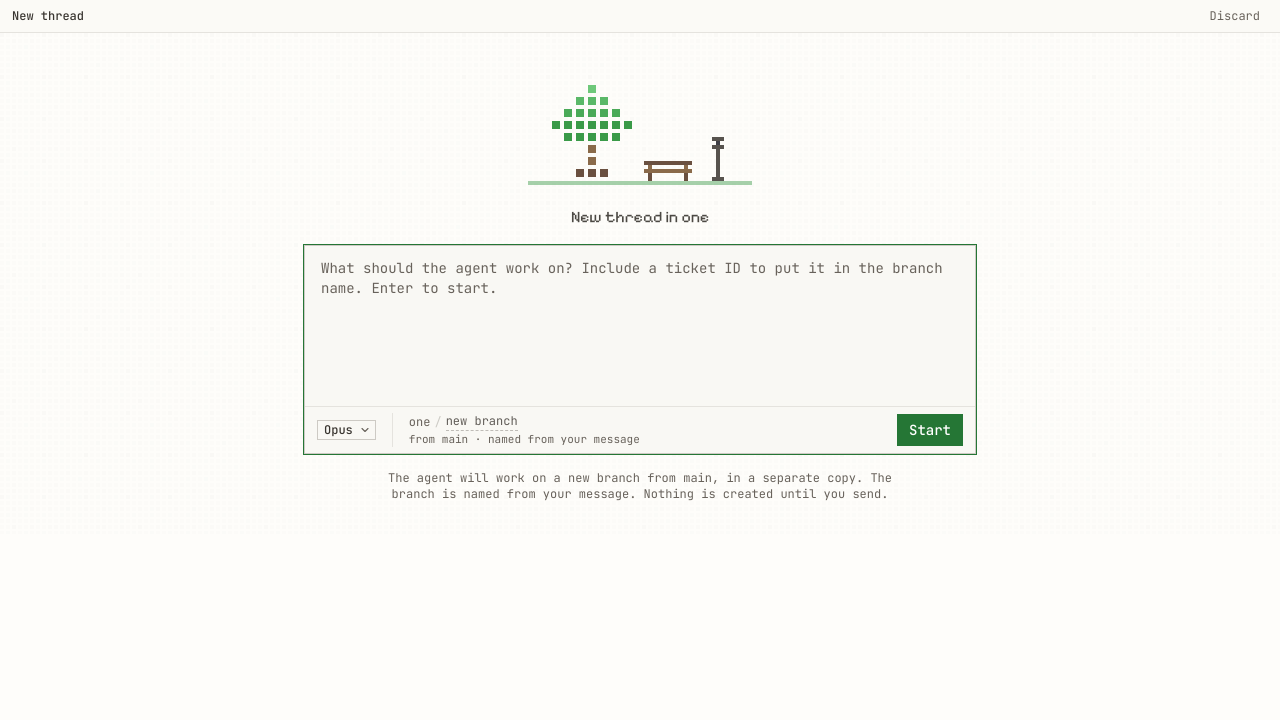
Scenario: DraftPane skills › says so when the agent has no skills
Replace the text in the text box named "First message" with "/" at (640, 326), box x1=305 y1=246 x2=975 y2=406
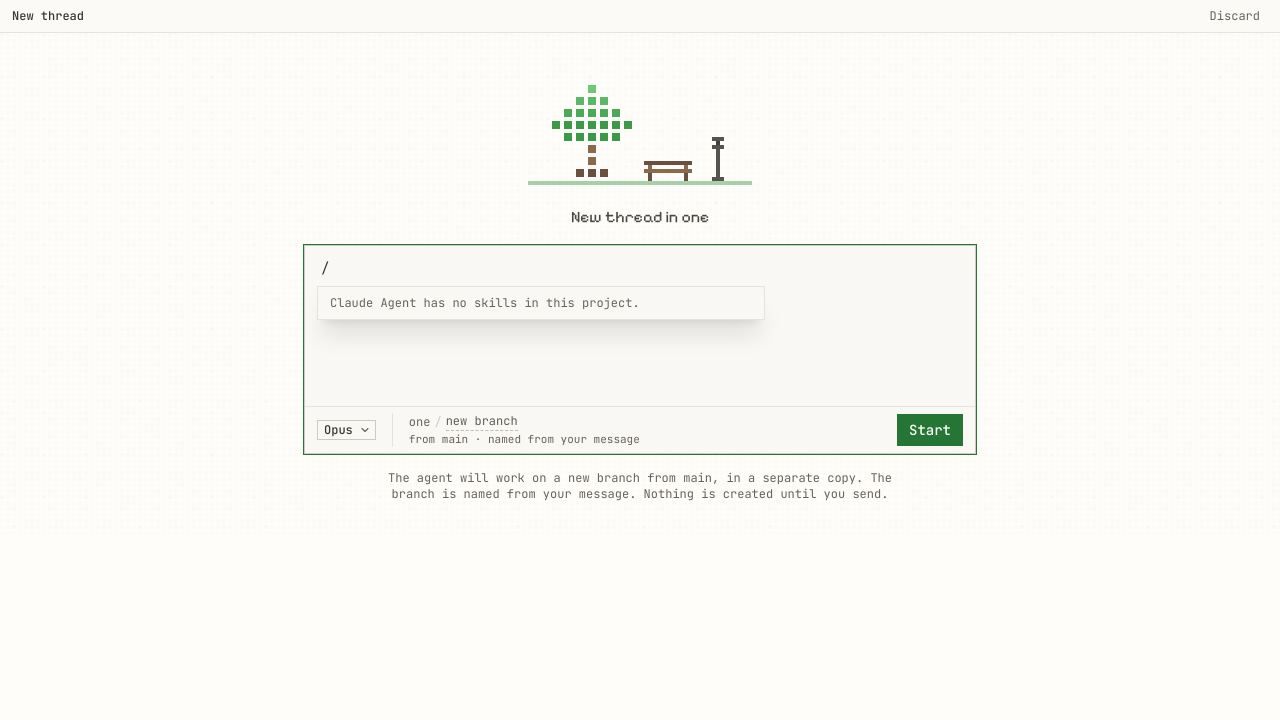
Check: the text "Claude Agent has no skills in this project." is shown, box x1=330 y1=295 x2=640 y2=311
